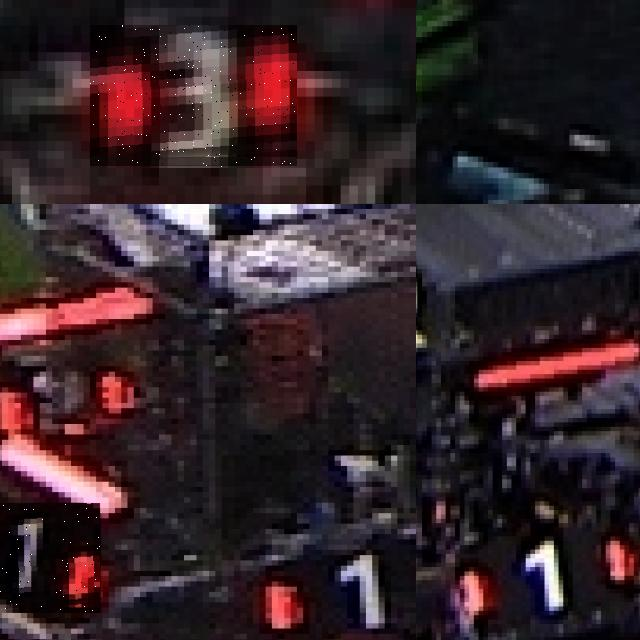R1: (259, 544, 416, 633), (460, 536, 629, 616), (0, 503, 102, 613)
R3: (90, 26, 297, 168)
